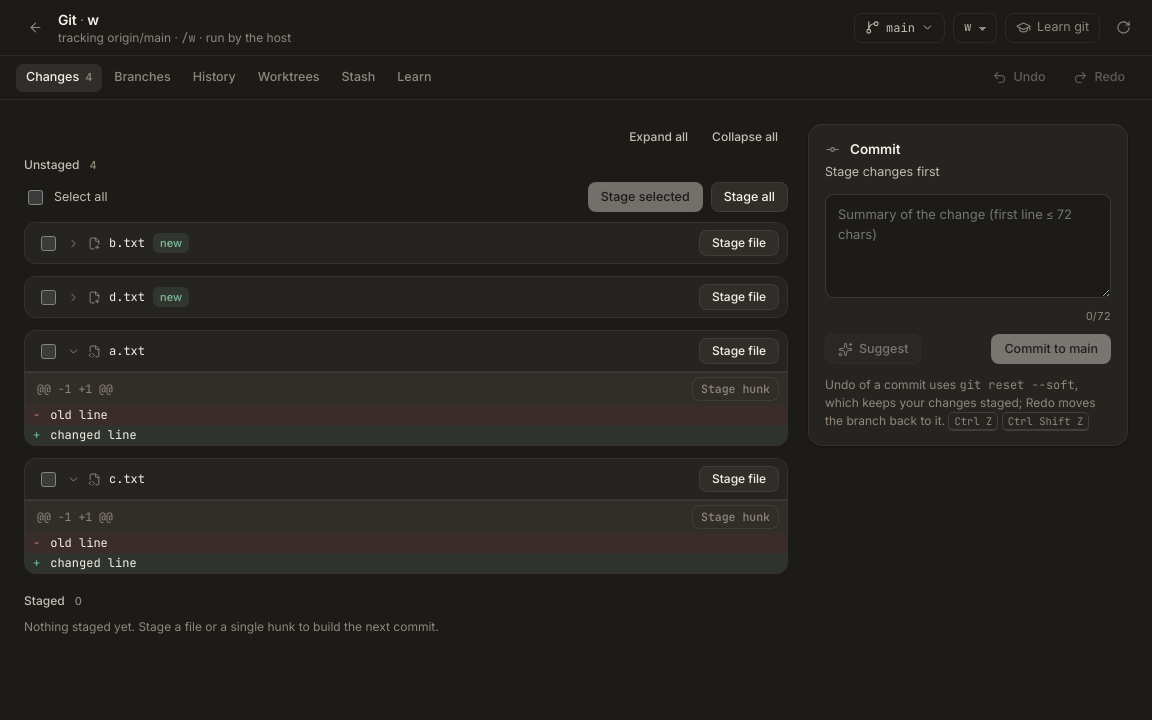
Test: new files in the Git view › show only their name until opened, then their content, read once per open
The width and height of the screenshot is (1152, 720).
Expected: the text "b.txt" is shown, [109,234,145,252]
Expected: the text "brand new line one" is not shown
Click the button with aria-label "Show the new file b.txt" at (128, 243), box [63,231,193,255]
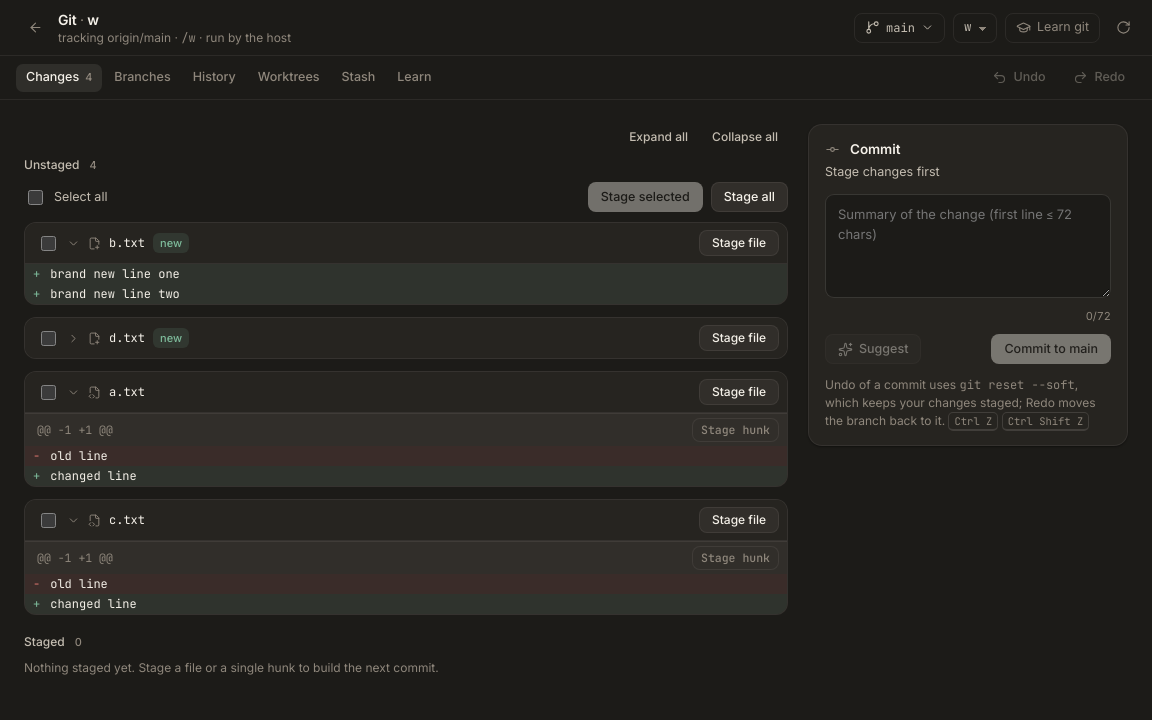
Result: the text "brand new line one" is shown at [40,264,787,284]
Result: the text "brand new line two" is shown at [40,284,787,304]
Click the button with aria-label "Hide the new file b.txt" at (128, 243), box [63,231,193,255]
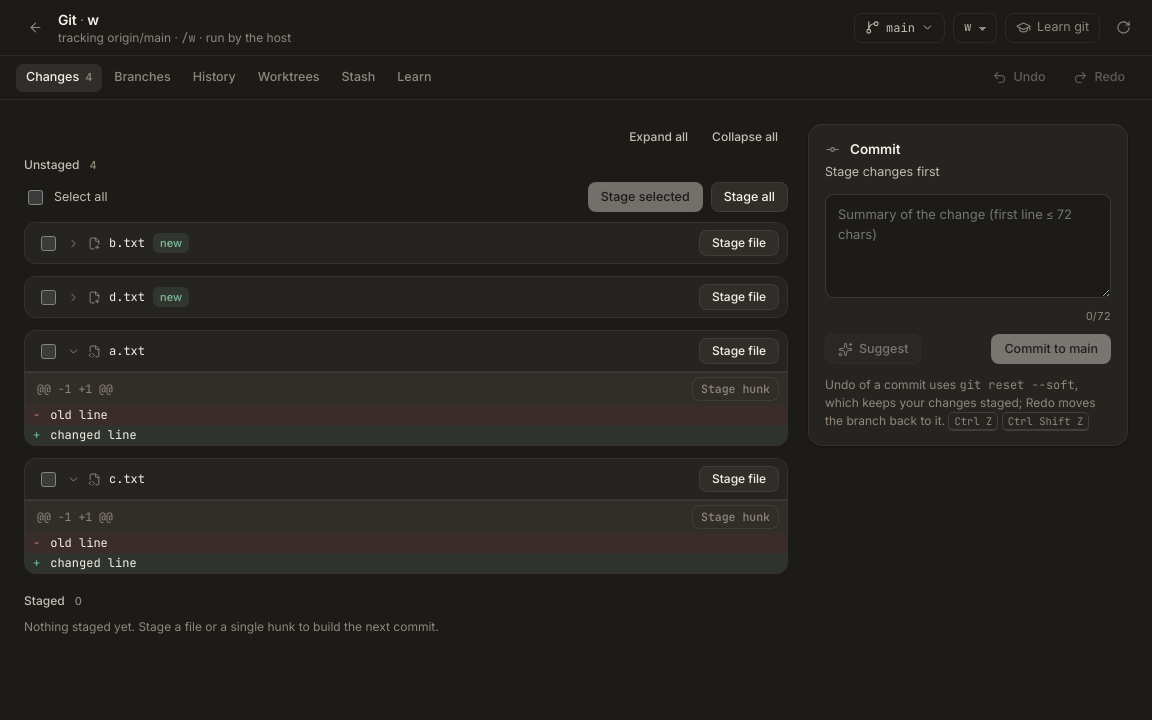
Result: the text "brand new line one" is gone
